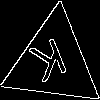K: (28, 37, 73, 92)
